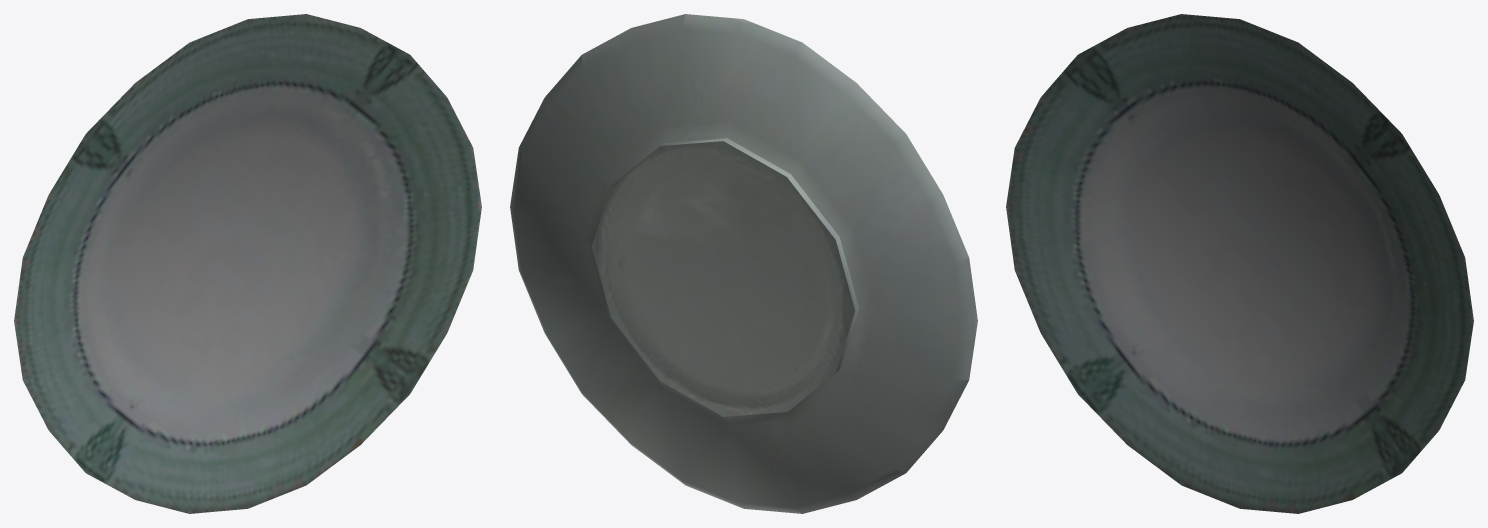
Rendered from p_us_restaurant_plate_LOD0.obj.
3 renders of one model, left to right at view 1: azimuth 30°, elevation 25°; view 2: azimuth 150°, elevation 25°; view 3: azimuth 330°, elevation 25°, orthographic.
Visible parts, largest first — view 1: mtl_p_us_restaurant_plate; view 2: mtl_p_us_restaurant_plate; view 3: mtl_p_us_restaurant_plate.
Part boxes in pixels (<box>): mtl_p_us_restaurant_plate: <box>14,14,481,513</box>; mtl_p_us_restaurant_plate: <box>510,14,977,513</box>; mtl_p_us_restaurant_plate: <box>1006,14,1473,513</box>.
Size of the model in its own units: 33.89 by 33.89 by 2.57.
